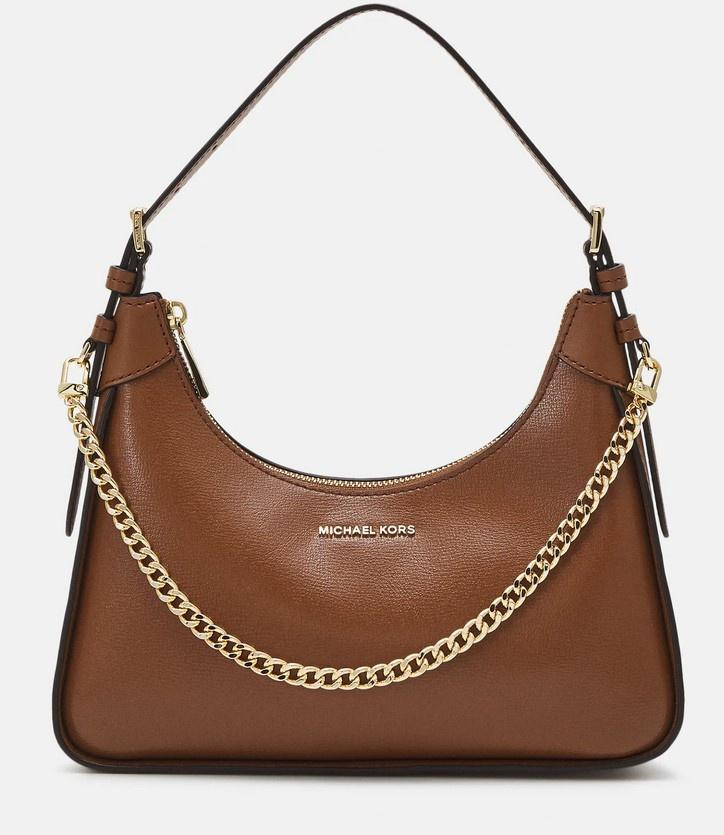MICHAEL-KORS: (318, 525, 416, 535)
